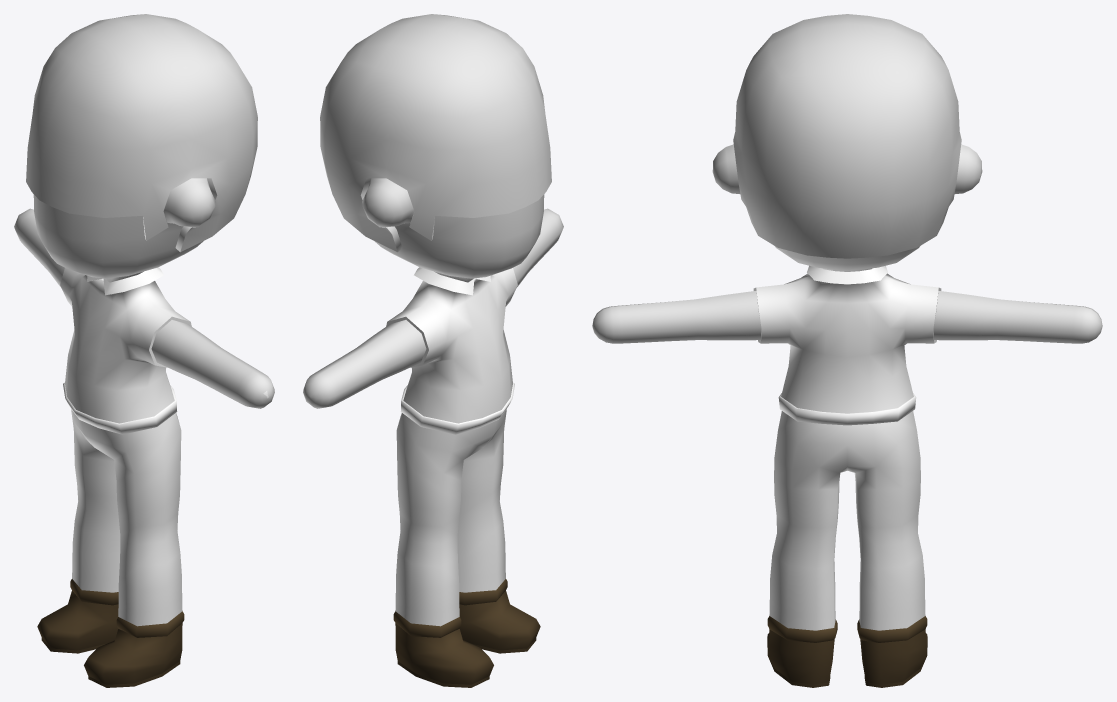
Rendered from MaleStudent-Tpose.fbx.
The picture shows the model from 3 angles, left to right: view 1: azimuth 30°, elevation 25°; view 2: azimuth 150°, elevation 25°; view 3: azimuth 270°, elevation 25°; orthographic projection. The views are drawn at different scales.
Visible parts, largest first — view 1: Cube.022; view 2: Cube.022; view 3: Cube.022.
Boxes of the visible parts, <box> form: Cube.022: <box>14,14,274,687</box>; Cube.022: <box>303,14,563,687</box>; Cube.022: <box>592,14,1102,687</box>.
Bounding box in the file's own units: 0.733 × 2.13 × 1.51.
